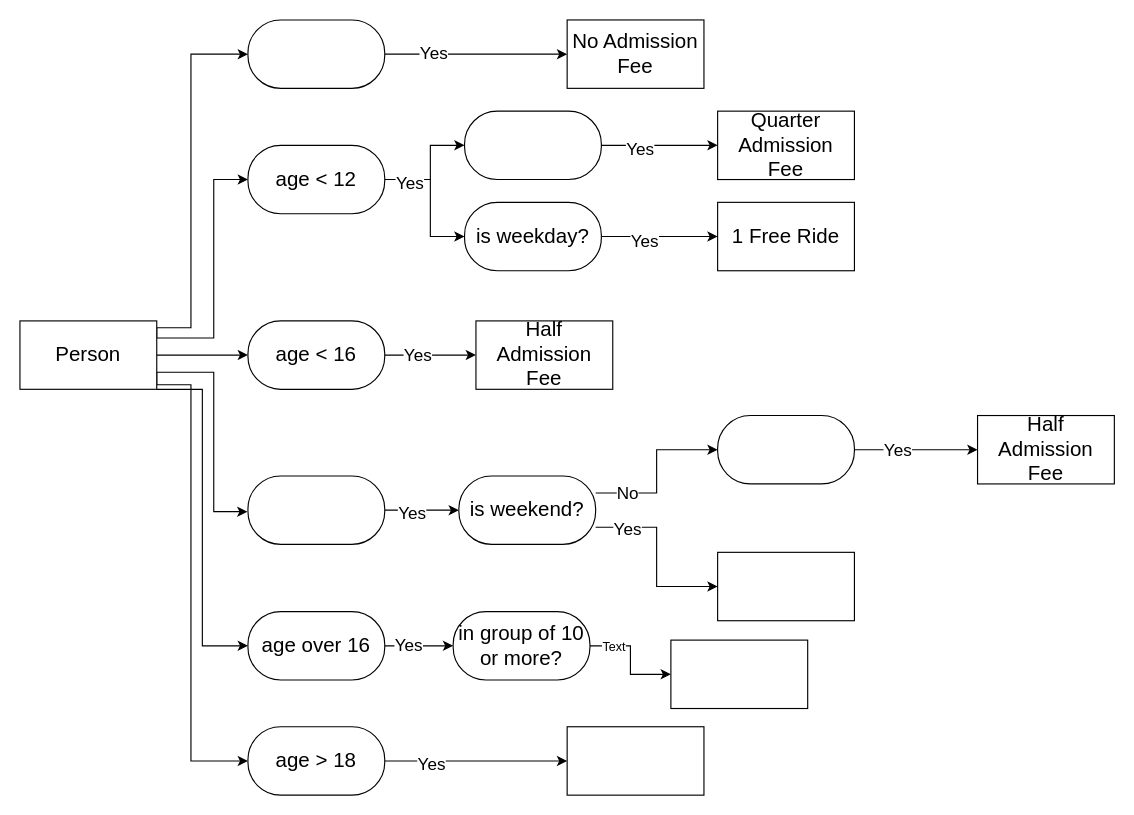
This 1134x815 diagram has some shape labels left out. Each missing label, with the centre of its shape:
10% Discount: (x=739, y=674)
Accompanied by Adult?: (x=532, y=145)
age < 3: (x=316, y=53)
age >= 16 and age <= 18: (x=316, y=509)
Full Admission Fee: (x=635, y=760)
is student ?: (x=785, y=449)
No Student Concession: (x=785, y=586)
